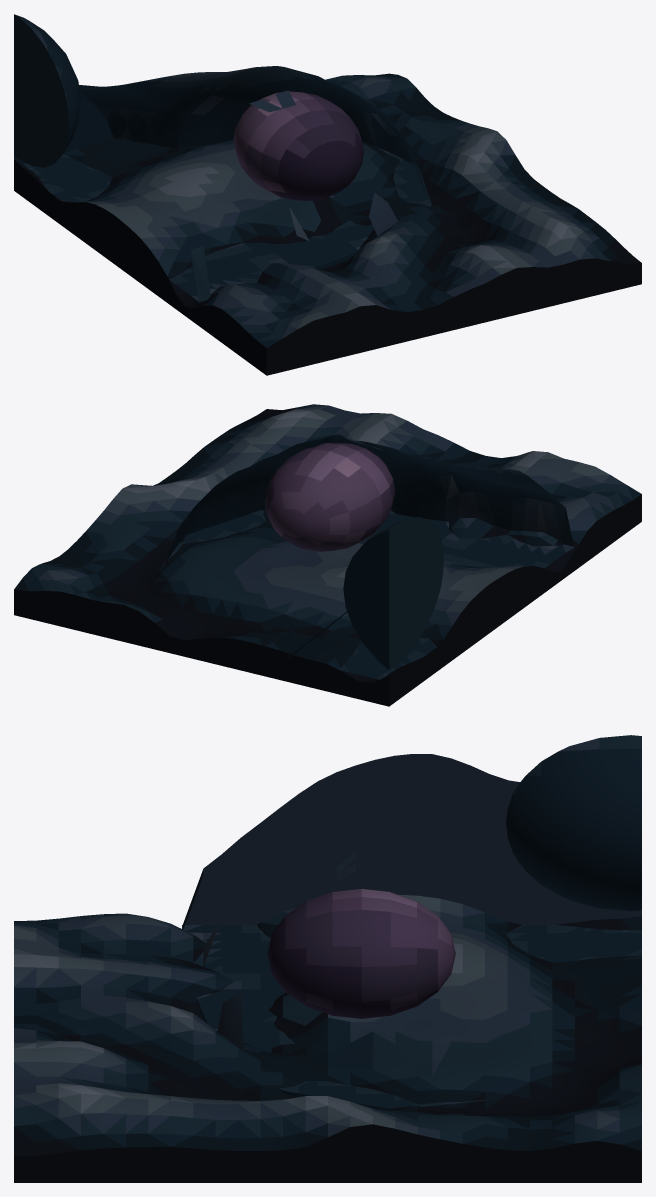
The model's file is gyges_stalk_br.glb.
The picture shows the model from 3 angles, top to bottom: view 1: azimuth 30°, elevation 25°; view 2: azimuth 150°, elevation 25°; view 3: azimuth 270°, elevation 25°; orthographic projection. The views are drawn at different scales.
Visible parts, largest first — view 1: gyges_stalk_br_stalk_wall, gyges_stalk_br_stalk_root, gyges_stalk_br_stalk_tip1, gyges_stalk_br_stalk_bulb; view 2: gyges_stalk_br_stalk_wall, gyges_stalk_br_stalk_root, gyges_stalk_br_stalk_tip1, gyges_stalk_br_stalk_bulb; view 3: gyges_stalk_br_stalk_wall, gyges_stalk_br_stalk_root, gyges_stalk_br_stalk_bulb, gyges_stalk_br_stalk_tip1.
Part boxes in pixels (x1,y1,x2,y2): gyges_stalk_br_stalk_wall: (14,73,641,375); gyges_stalk_br_stalk_root: (14,66,431,302); gyges_stalk_br_stalk_tip1: (233,91,363,200); gyges_stalk_br_stalk_bulb: (14,14,80,167); gyges_stalk_br_stalk_wall: (14,404,641,706); gyges_stalk_br_stalk_root: (163,434,574,679); gyges_stalk_br_stalk_tip1: (264,443,395,551); gyges_stalk_br_stalk_bulb: (343,517,443,670); gyges_stalk_br_stalk_wall: (14,894,641,1182); gyges_stalk_br_stalk_root: (182,754,641,1108); gyges_stalk_br_stalk_bulb: (506,735,641,911); gyges_stalk_br_stalk_tip1: (267,889,455,1018).
Bounding box in the file's own units: 23.98 × 10.83 × 27.98.
